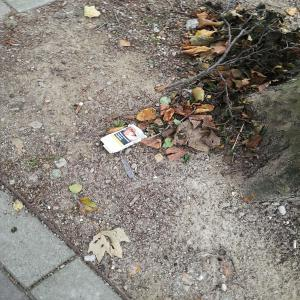Trash: (99, 123, 151, 157)
